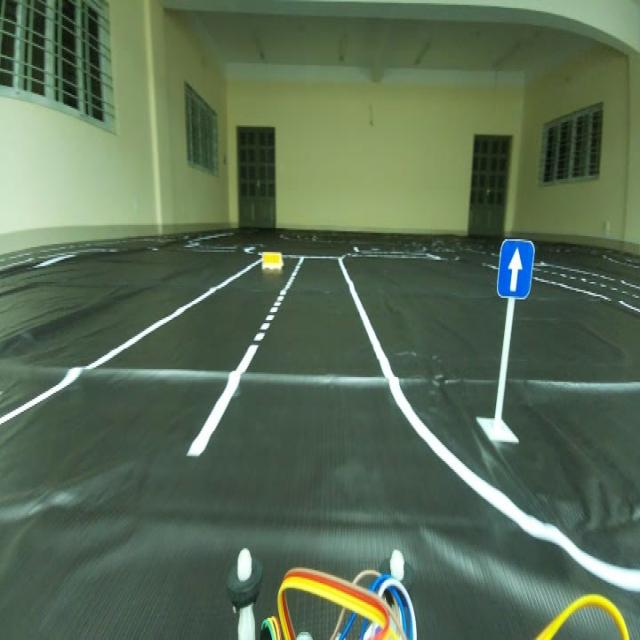onewayroad: (496, 235, 532, 302)
roadblock: (260, 247, 284, 273)
